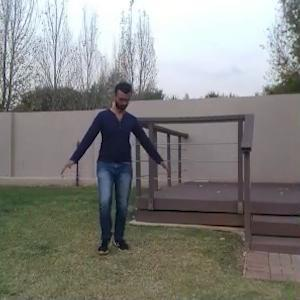land: (72, 75, 164, 267)
